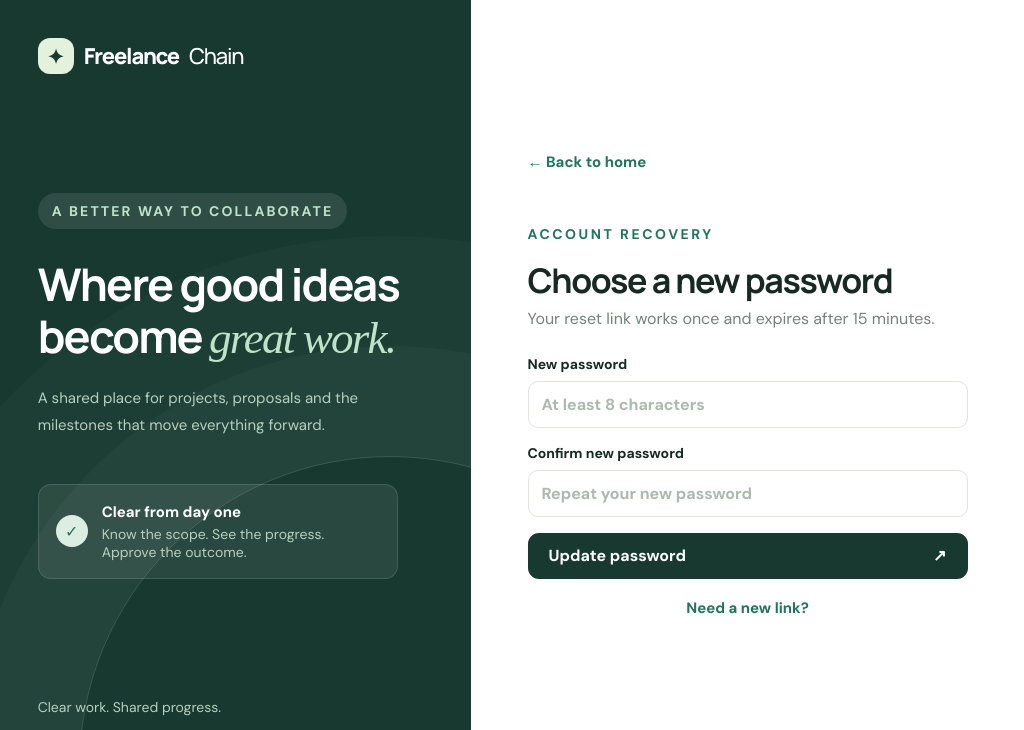
reset form requires matching passwords and sends the link token
Type "new-password-123" into the password field labelled "New password".
click(748, 404); type("new-password-123")  # box [528,380,968,428]
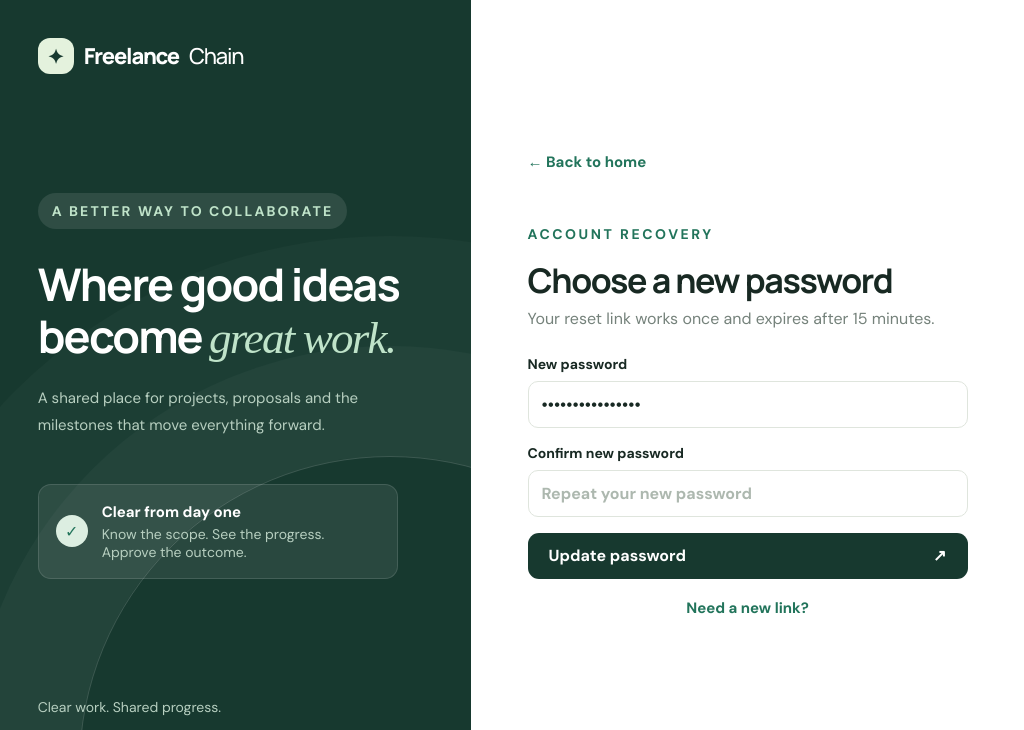
Type "different-password" into the password field labelled "Confirm new password".
click(748, 493); type("different-password")  # box [528,470,968,516]
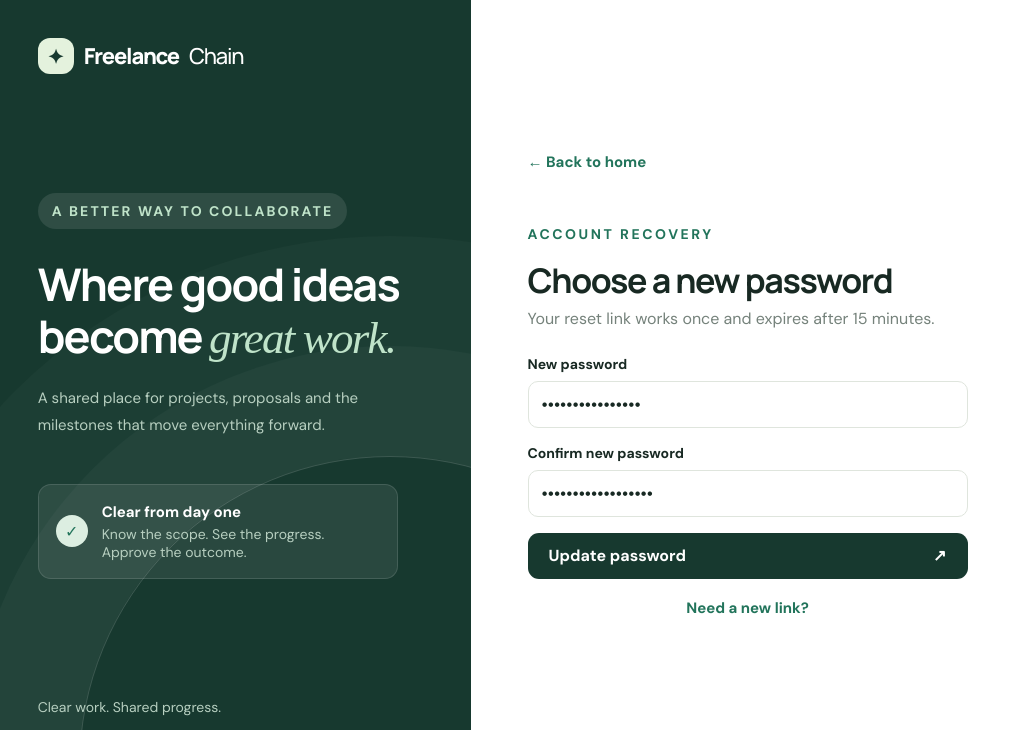
Click the button "Update password ↗".
click(617, 556)  # box [528,532,968,578]
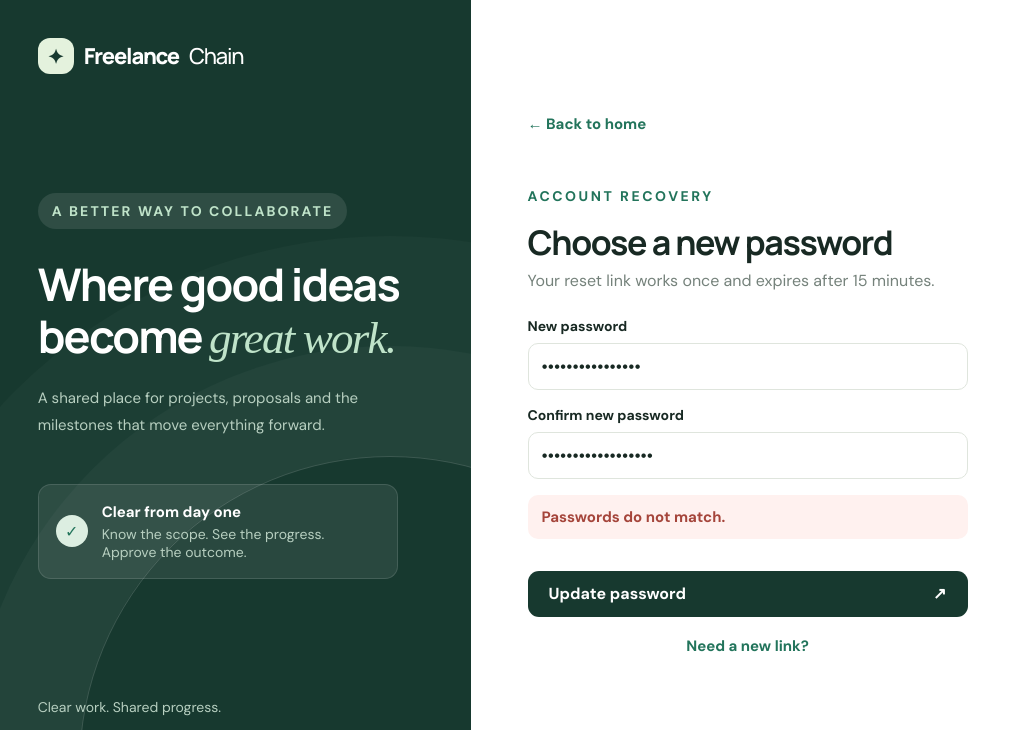
Now the message shows "do not match", box [542,506,725,526]
Type "new-password-123" into the password field labelled "Confirm new password".
click(748, 455); type("new-password-123")  # box [528,432,968,478]
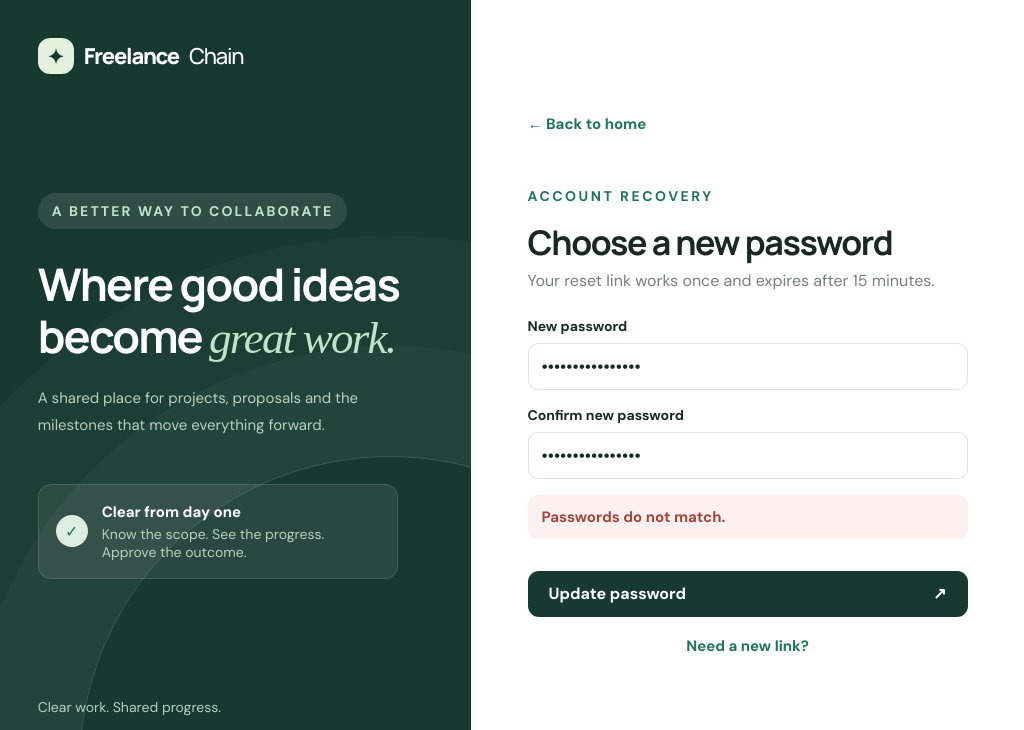
Click the button "Update password ↗".
click(617, 594)  # box [528,570,968,616]
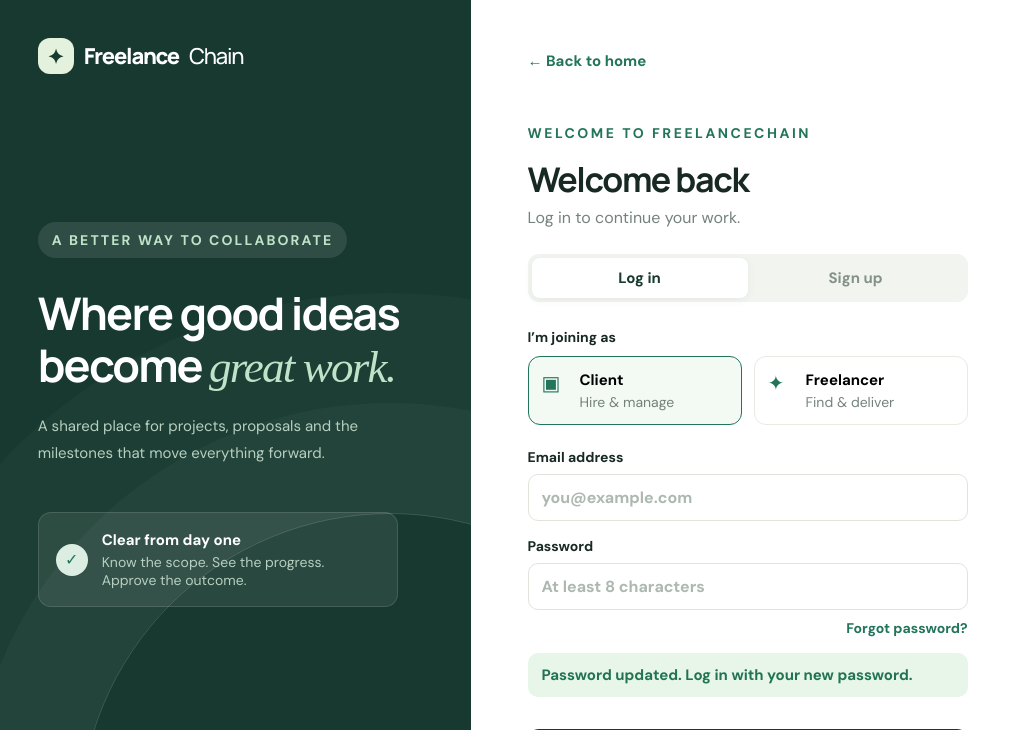
Now the text "Password updated. Log in with your new password." is shown, box [528,653,968,697]
